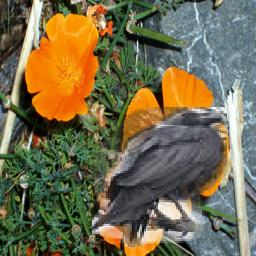Crow: (93, 107, 228, 247)
